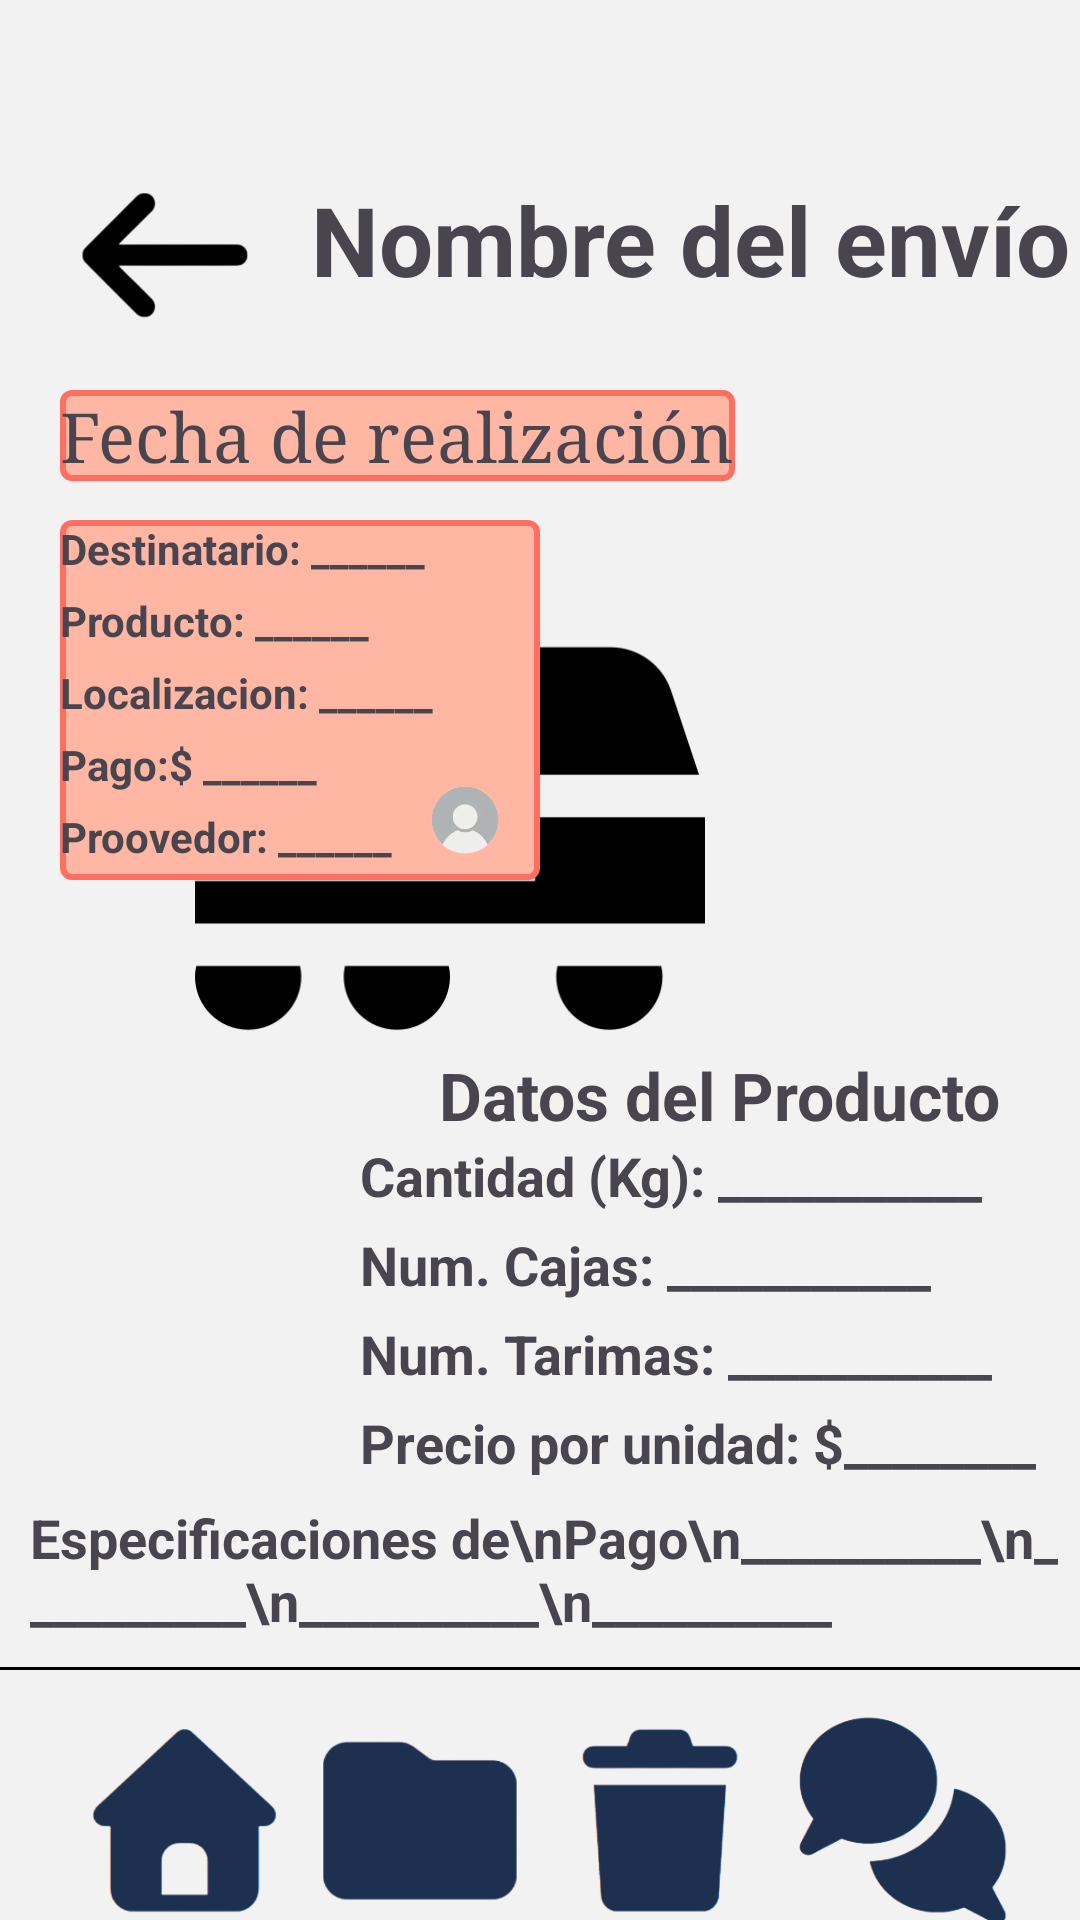

Icon click points for this 1080x1920 phone screenshot, format point (x, y):
flecha: point (165, 255)
